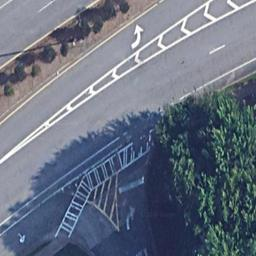Chevron: (2, 1, 218, 160)
Crosswalk: (87, 128, 154, 185), (55, 182, 91, 239)
Left Turn Arrow: (130, 21, 146, 49), (14, 231, 26, 244)
Right Turn Arrow: (125, 206, 137, 233)
Solid White Line: (1, 128, 131, 225), (1, 141, 122, 231), (172, 57, 256, 104)
Stopline: (120, 175, 144, 193)
White Dashed Line: (204, 31, 252, 57), (31, 1, 55, 19)
